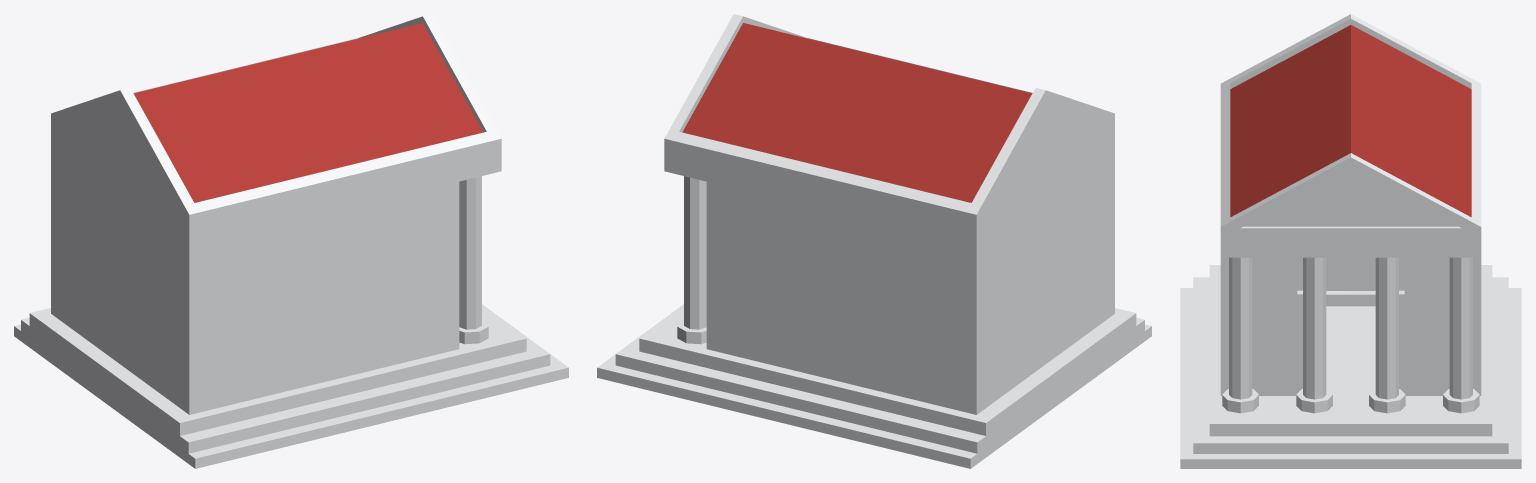
Rendered from Tenple_001.fbx.
3 renders of one model, left to right at view 1: azimuth 30°, elevation 25°; view 2: azimuth 150°, elevation 25°; view 3: azimuth 270°, elevation 25°, orthographic. The views are drawn at different scales.
Parts seen in each view (by area): view 1: Tenple.001; view 2: Tenple.001; view 3: Tenple.001.
Boxes of the visible parts, x1,y1,x2,y2 form: Tenple.001: [14, 14, 568, 468]; Tenple.001: [597, 14, 1151, 468]; Tenple.001: [1180, 14, 1521, 468].
Size of the model in its own units: 2941 by 2323 by 2472.
